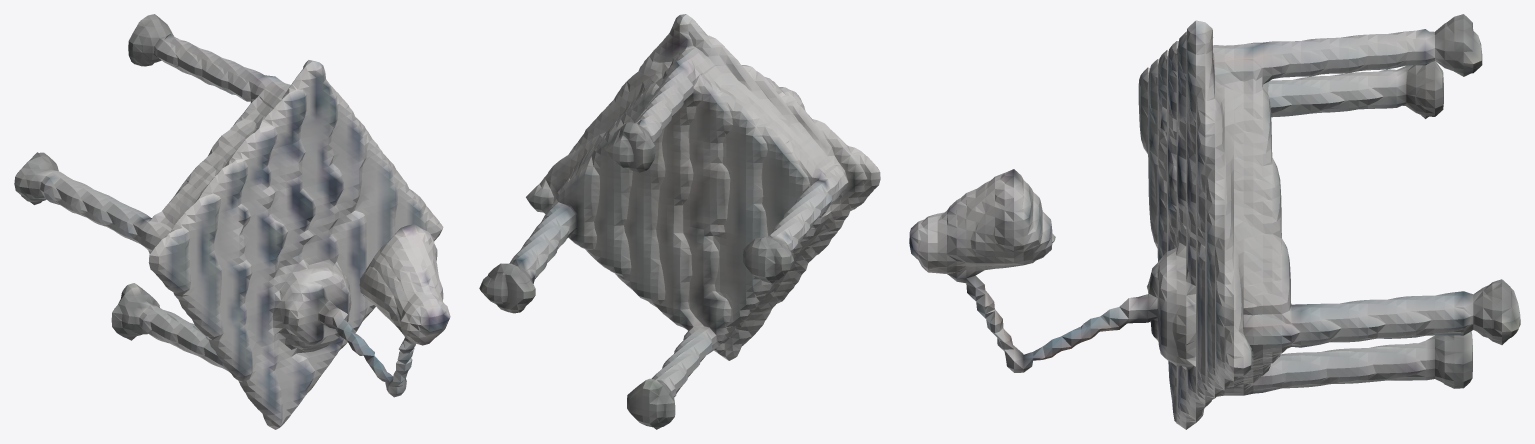
3 views of the same model, side by side, from view 1: azimuth 30°, elevation 25°; view 2: azimuth 150°, elevation 25°; view 3: azimuth 270°, elevation 25° (orthographic). The views are drawn at different scales.
Visible parts, largest first — view 1: world; view 2: world; view 3: world.
Boxes of the visible parts, bbox=[...] form: world: bbox=[14, 14, 450, 429]; world: bbox=[479, 14, 880, 429]; world: bbox=[909, 14, 1520, 429].
Bounding box in the file's own units: 0.7085 × 0.6839 × 0.8752.
